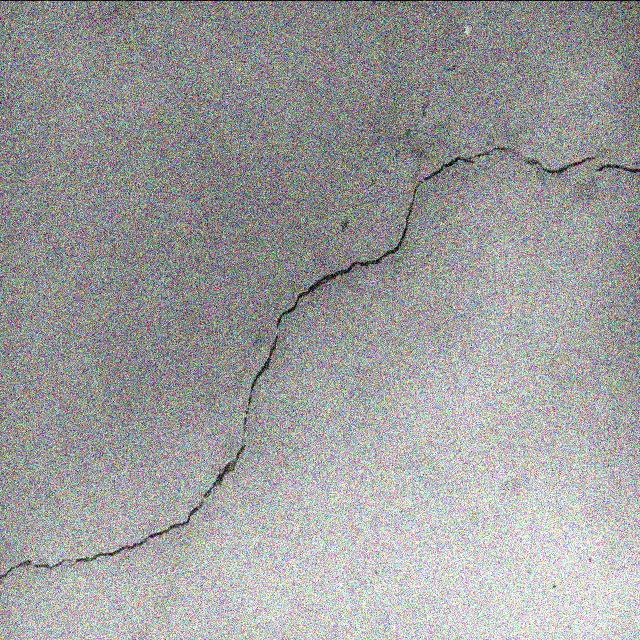SurfaceCrack: (0, 20, 636, 629)
